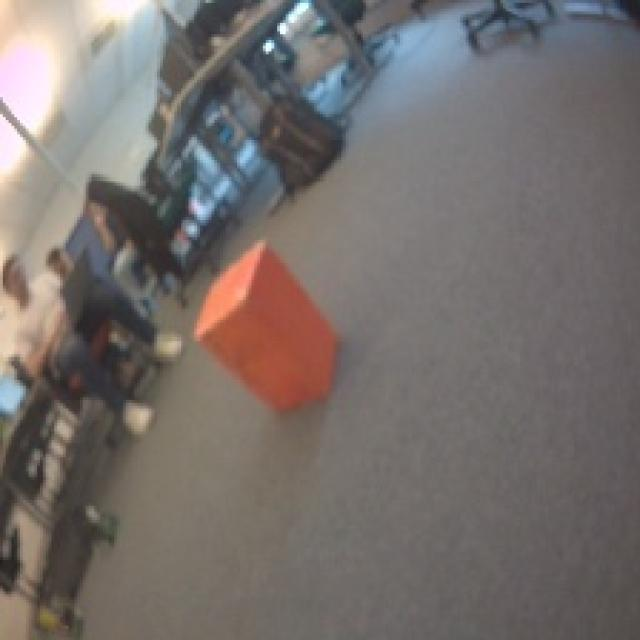target: (189, 237, 340, 414)
